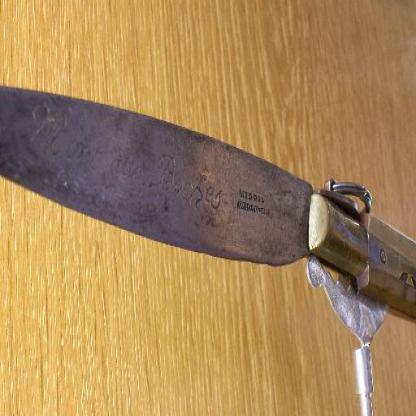knife: (0, 78, 415, 415)
